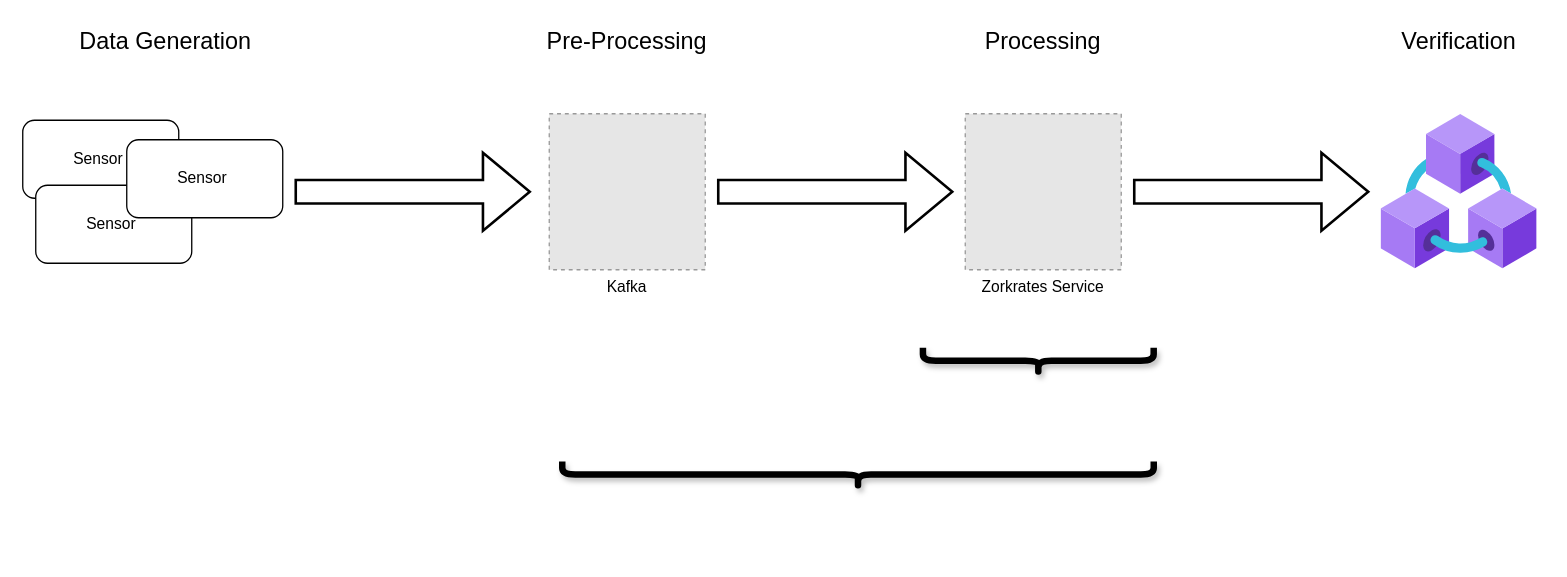
The diagram is 1567 pixels wide and 577 high, and some of its shapes have lost their labels. Grey dashed boxes stand in for pictures. The centre of each missing label's shape, as x and y in pixels:
"Blockchain" goes at [1459,191].
"Implementation" goes at [1039,362].
"Proposal" goes at [858,476].
